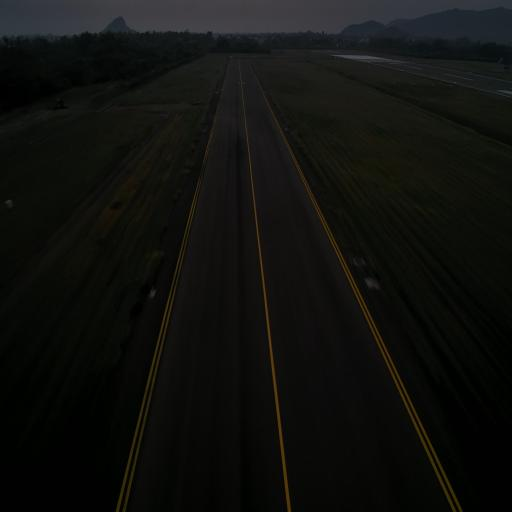on: (148, 284, 156, 298), (367, 271, 374, 286)
